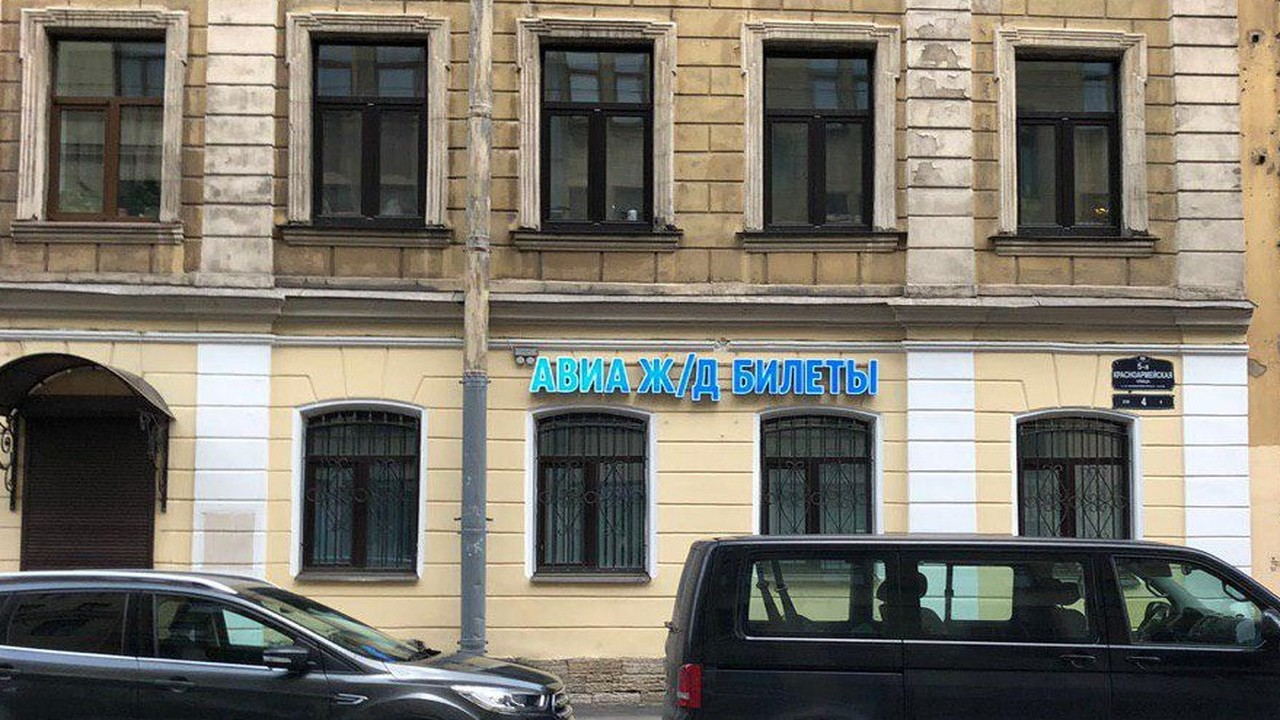signboard: (525, 349, 881, 403)
window: (47, 34, 165, 222), (541, 42, 654, 231), (310, 36, 423, 223), (302, 408, 417, 575), (1016, 54, 1119, 238), (768, 50, 871, 233), (538, 410, 645, 575), (1013, 404, 1130, 539), (765, 412, 879, 537)
